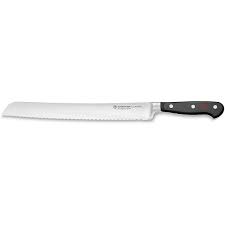knife: (1, 101, 225, 122)
